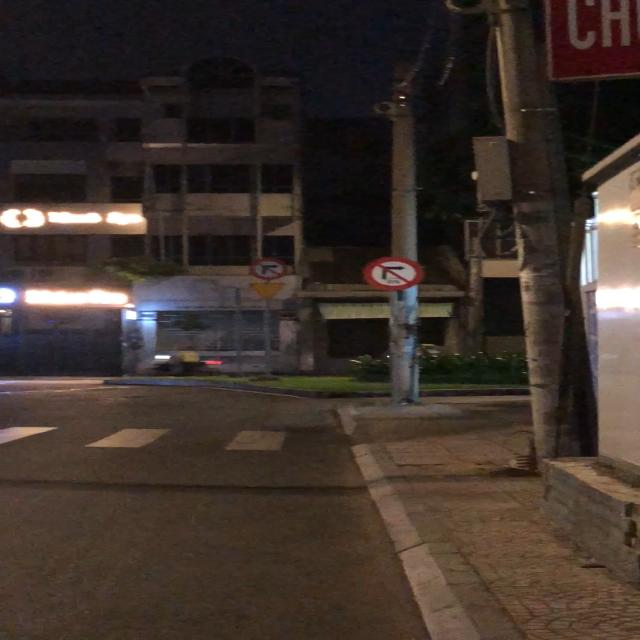Bien bao cam re phai: (247, 257, 290, 281)
Bien bao cam xe o to re phai: (362, 255, 425, 291)
Bien bao giao nhau voi duong uu tien: (247, 280, 290, 302)
